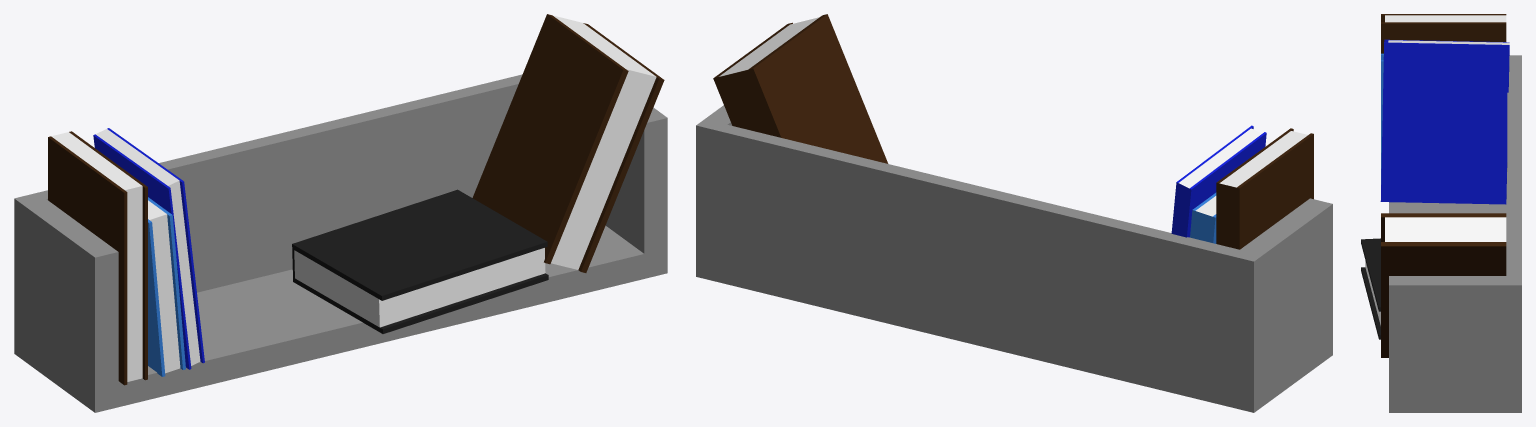
The model's file is LibreriaPequeña.FBX.
3 views of the same model, side by side, from view 1: azimuth 30°, elevation 25°; view 2: azimuth 150°, elevation 25°; view 3: azimuth 270°, elevation 25° (orthographic). The views are drawn at different scales.
Parts seen in each view (by area): view 1: tiny library; view 2: tiny library; view 3: tiny library.
Part boxes in pixels (left/top/right/bottom): tiny library: left=14, top=14, right=667, bottom=412; tiny library: left=696, top=14, right=1332, bottom=412; tiny library: left=1361, top=14, right=1521, bottom=412.
Size of the model in its own units: 2.59 by 0.9464 by 0.7665.
